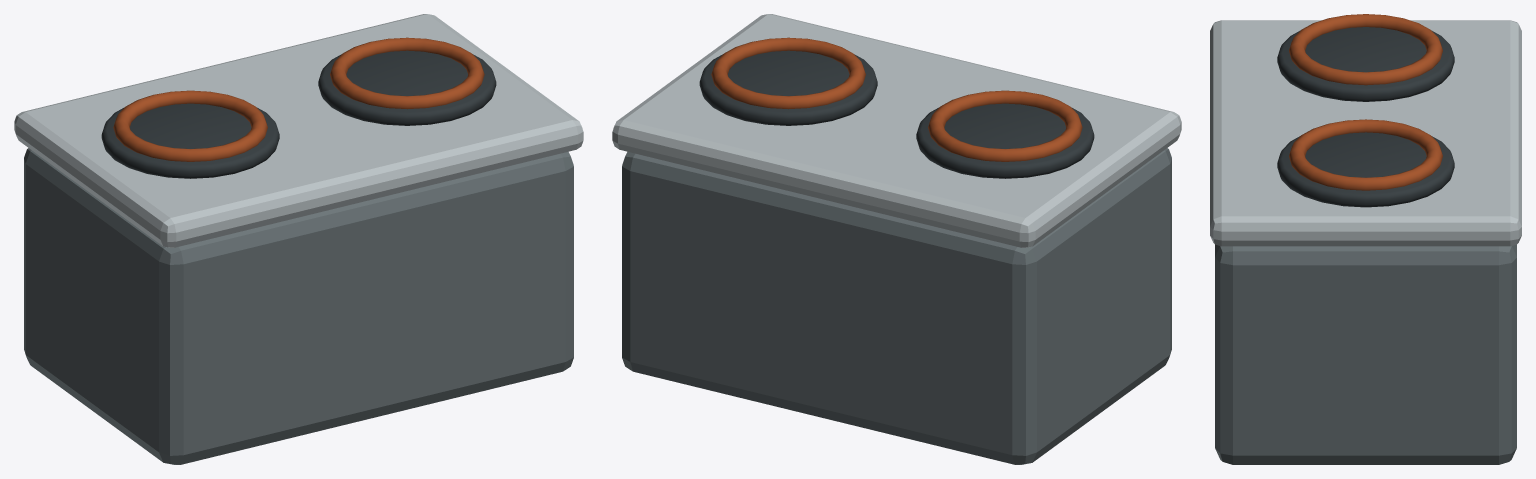
The model's file is StoveBase.fbx.
3 renders of one model, left to right at view 1: azimuth 30°, elevation 25°; view 2: azimuth 150°, elevation 25°; view 3: azimuth 270°, elevation 25°, orthographic.
Parts seen in each view (by area): view 1: Body.001, Top.001, Burner_L, Burner_R, Ring_L, Ring_R; view 2: Body.001, Top.001, Burner_L, Burner_R, Ring_L, Ring_R; view 3: Body.001, Top.001, Burner_R, Burner_L, Ring_L, Ring_R.
Boxes of the visible parts, <box> form: Body.001: <box>24,148,573,464</box>; Top.001: <box>14,14,583,247</box>; Burner_L: <box>101,103,279,178</box>; Burner_R: <box>318,50,496,125</box>; Ring_L: <box>113,90,267,161</box>; Ring_R: <box>330,37,484,109</box>; Body.001: <box>622,148,1171,464</box>; Top.001: <box>612,14,1181,247</box>; Burner_L: <box>916,103,1094,178</box>; Burner_R: <box>699,50,877,125</box>; Ring_L: <box>928,90,1082,161</box>; Ring_R: <box>711,37,865,109</box>; Body.001: <box>1215,244,1516,464</box>; Top.001: <box>1210,20,1521,246</box>; Burner_R: <box>1277,132,1454,207</box>; Burner_L: <box>1277,27,1454,101</box>; Ring_L: <box>1289,14,1442,85</box>; Ring_R: <box>1289,119,1442,190</box>.
Size of the model in its own units: 1.48 by 0.925 by 0.95.
